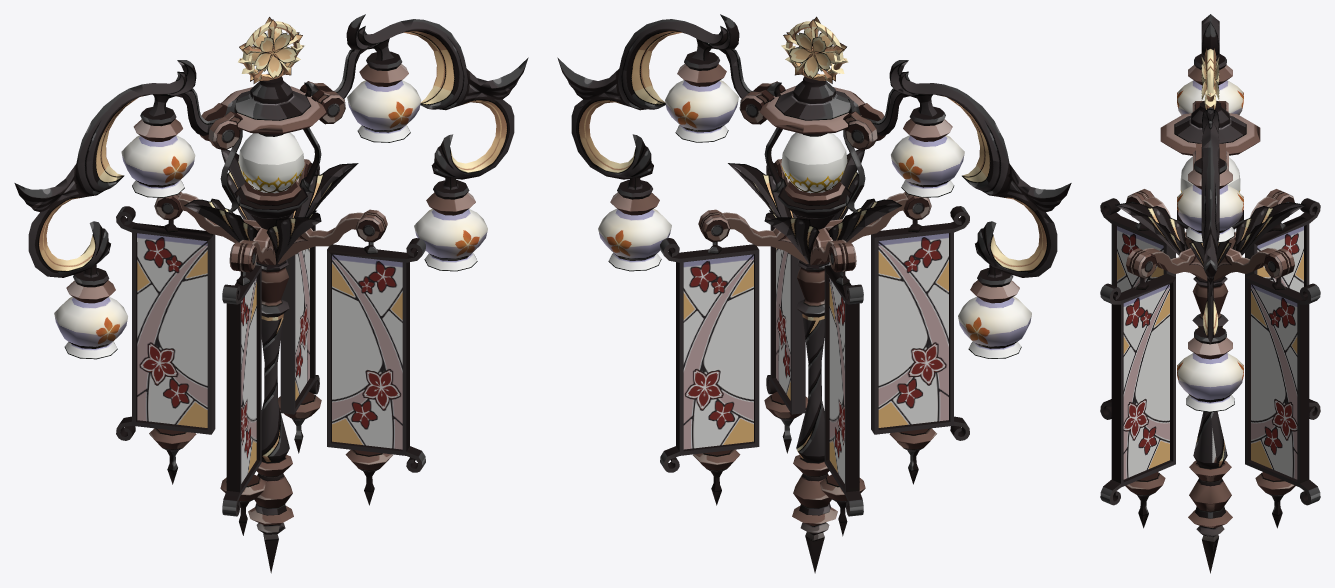
The picture shows the model from 3 angles, left to right: view 1: azimuth 30°, elevation 25°; view 2: azimuth 150°, elevation 25°; view 3: azimuth 270°, elevation 25°; orthographic projection. The views are drawn at different scales.
Visible parts, largest first — view 1: 吊灯; view 2: 吊灯; view 3: 吊灯.
Part boxes in pixels (left/top/right/bottom): 吊灯: left=14, top=14, right=528, bottom=573; 吊灯: left=557, top=14, right=1071, bottom=573; 吊灯: left=1100, top=14, right=1320, bottom=573.
Bounding box in the file's own units: 138 × 143 × 54.16.
